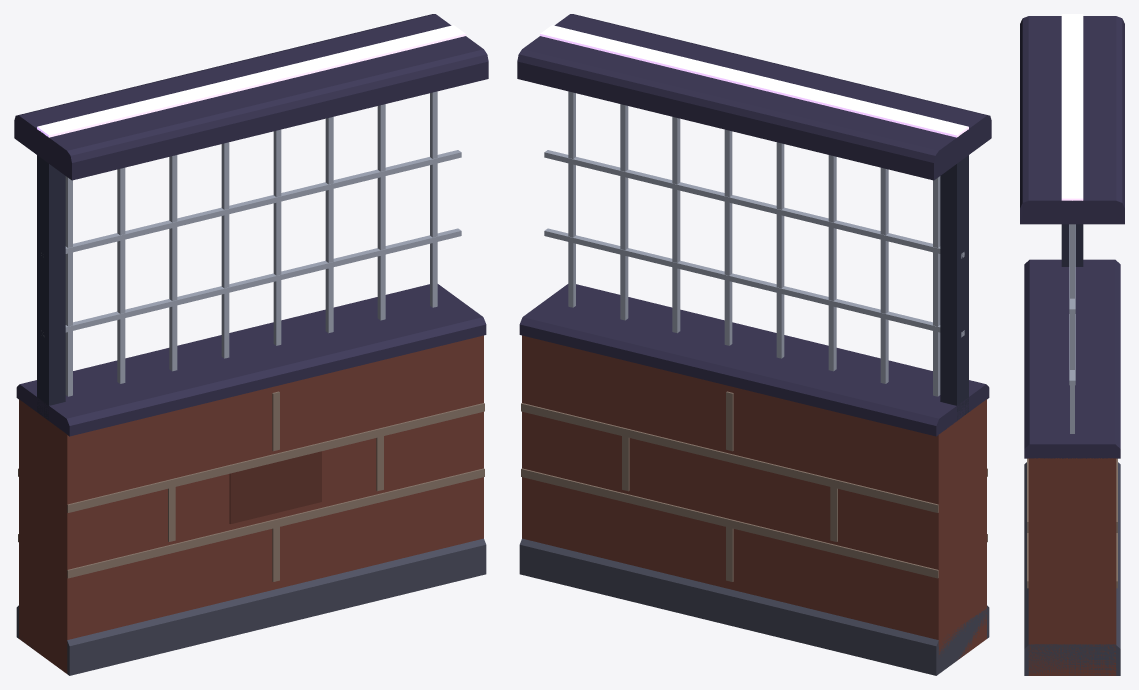
File: wand_halb.glb
The picture shows the model from 3 angles, left to right: view 1: azimuth 30°, elevation 25°; view 2: azimuth 150°, elevation 25°; view 3: azimuth 270°, elevation 25°; orthographic projection. The views are drawn at different scales.
Parts seen in each view (by area): view 1: wand_halb; view 2: wand_halb; view 3: wand_halb.
Boxes of the visible parts, <box> form: wand_halb: <box>14,14,488,675</box>; wand_halb: <box>517,14,991,675</box>; wand_halb: <box>1020,14,1124,675</box>.
Bounding box in the file's own units: 1 × 1.21 × 0.24.
